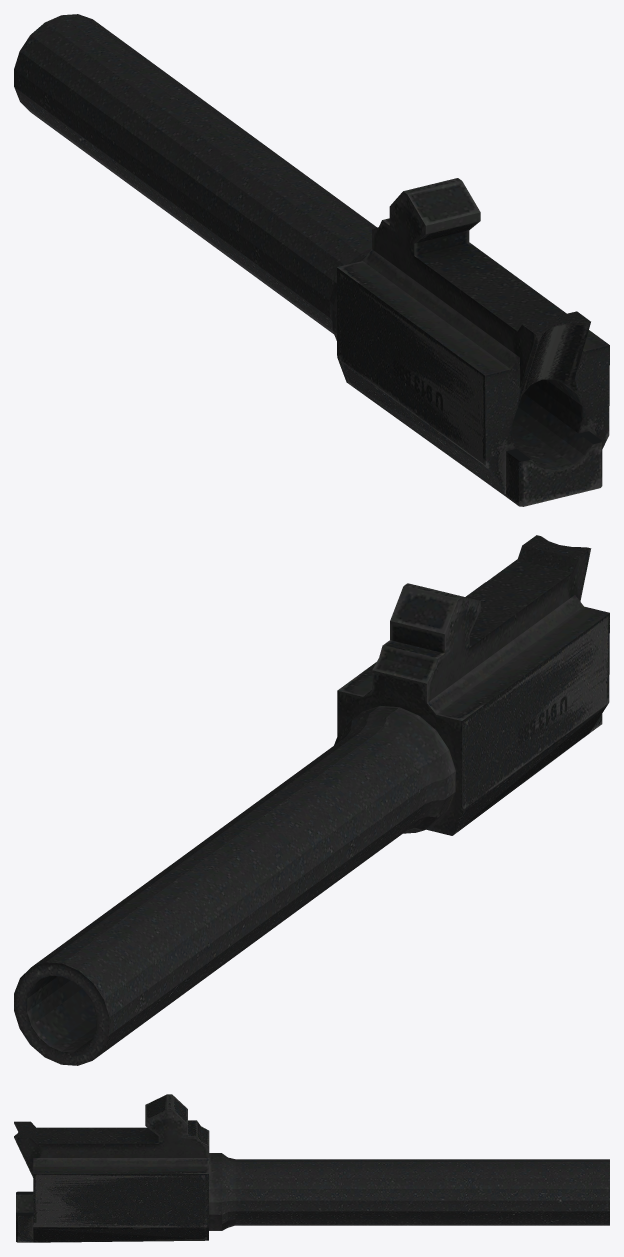
3 views of the same model, one above another, from view 1: azimuth 30°, elevation 25°; view 2: azimuth 150°, elevation 25°; view 3: azimuth 270°, elevation 25° (orthographic). The views are drawn at different scales.
Parts seen in each view (by area): view 1: TW_56d5a1f7d2720bb3418b456a_PZ_Import; view 2: TW_56d5a1f7d2720bb3418b456a_PZ_Import; view 3: TW_56d5a1f7d2720bb3418b456a_PZ_Import.
Part boxes in pixels (bbox=[...]): TW_56d5a1f7d2720bb3418b456a_PZ_Import: bbox=[14, 14, 609, 506]; TW_56d5a1f7d2720bb3418b456a_PZ_Import: bbox=[14, 535, 609, 1065]; TW_56d5a1f7d2720bb3418b456a_PZ_Import: bbox=[14, 1094, 609, 1242].
Size of the model in its own units: 0.00936 by 0.0651 by 0.0155.
Materials: 1 (1 with a texture image).
